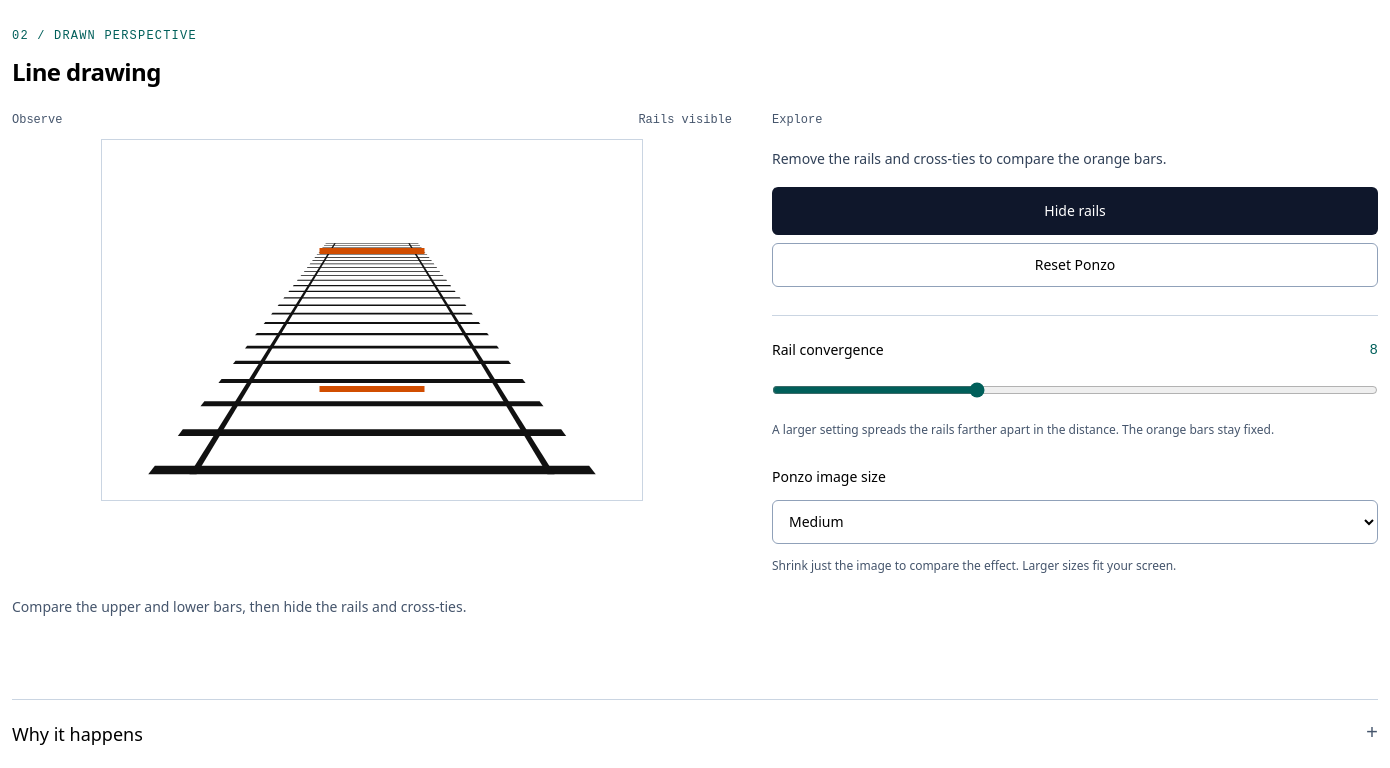
Scenario: Ponzo experience › keeps size and disclosure independent, links sources, and resets all defaults with focus retained
(page scrolled)
Click the button "Why it happens +" at (77,734), box [12,700,1378,767]
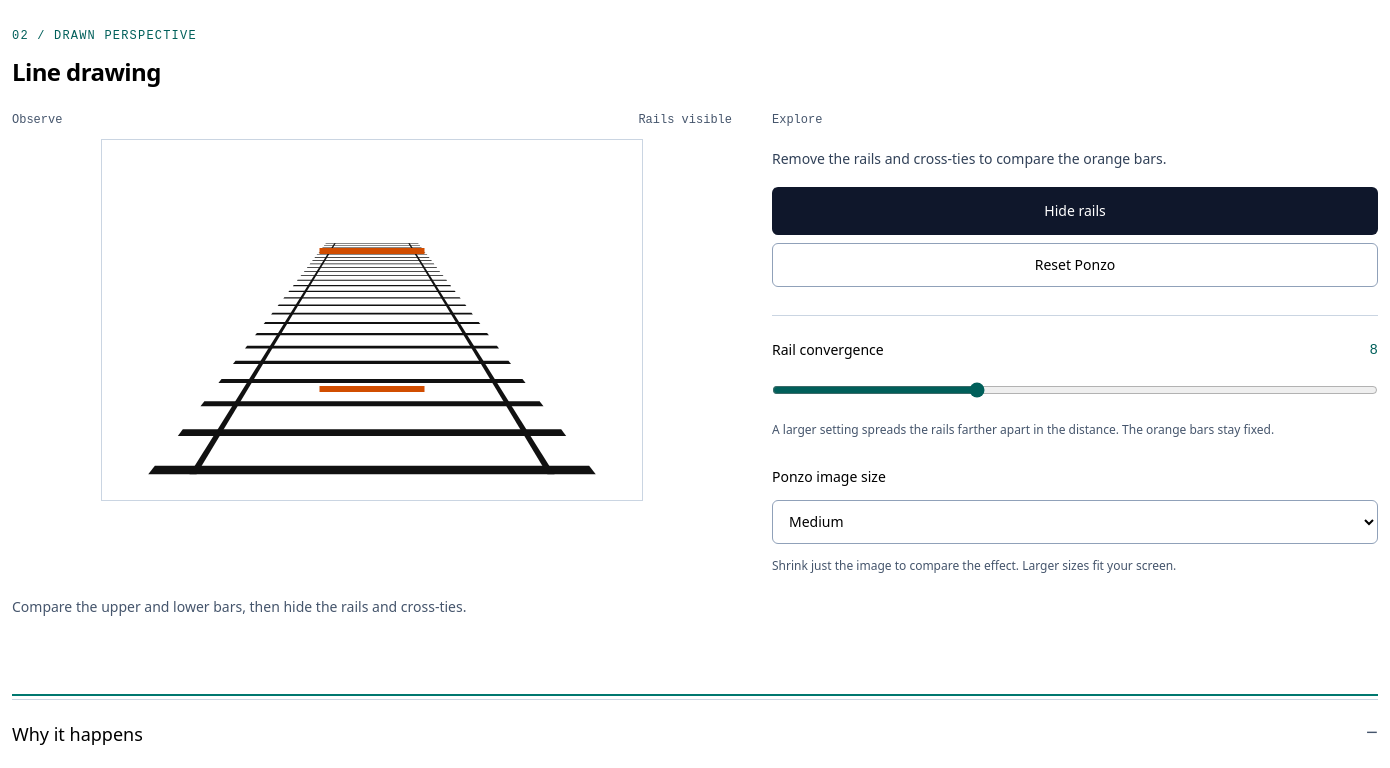
Select "Compact" in the dropdown labelled "Ponzo image size" at (1075,522), box [772,500,1378,544]
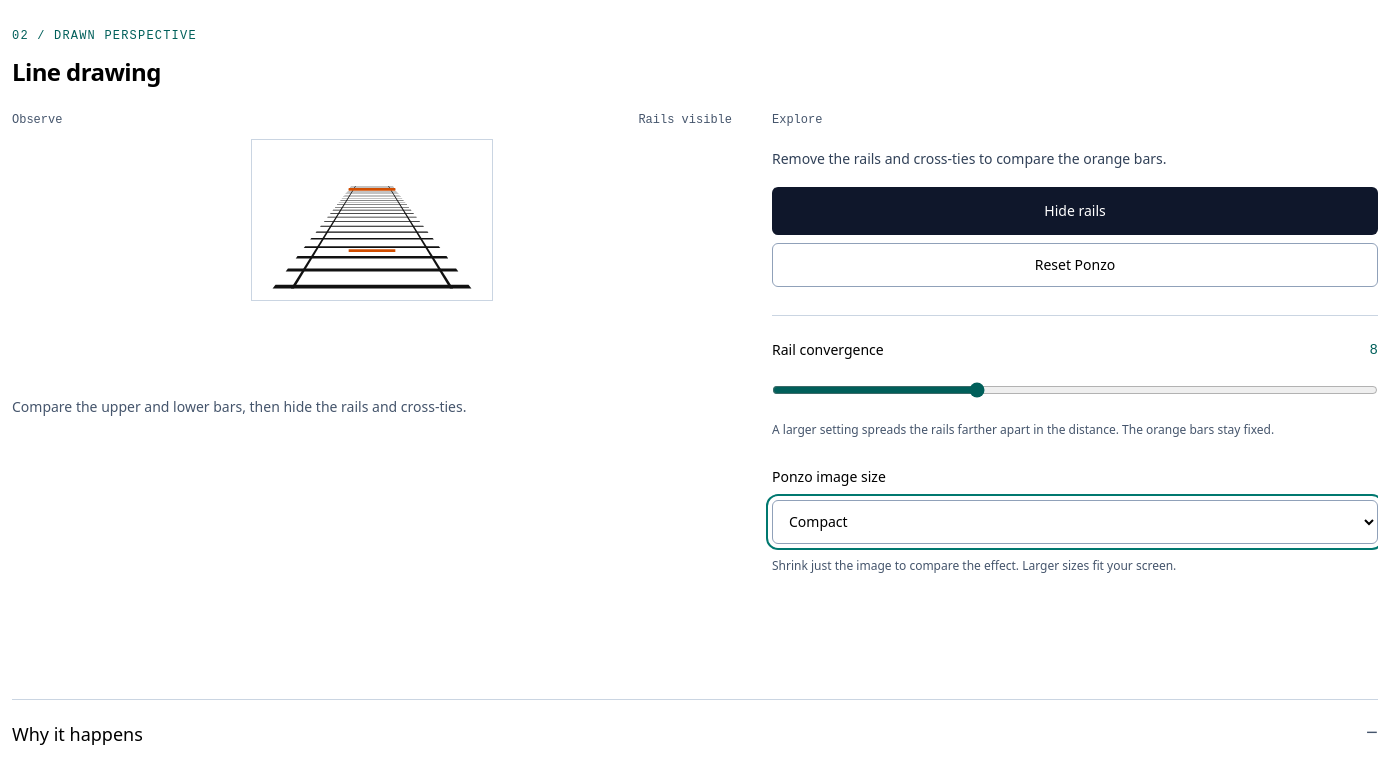
Select "Large" in the dropdown labelled "Ponzo image size" at (1075,522), box [772,500,1378,544]
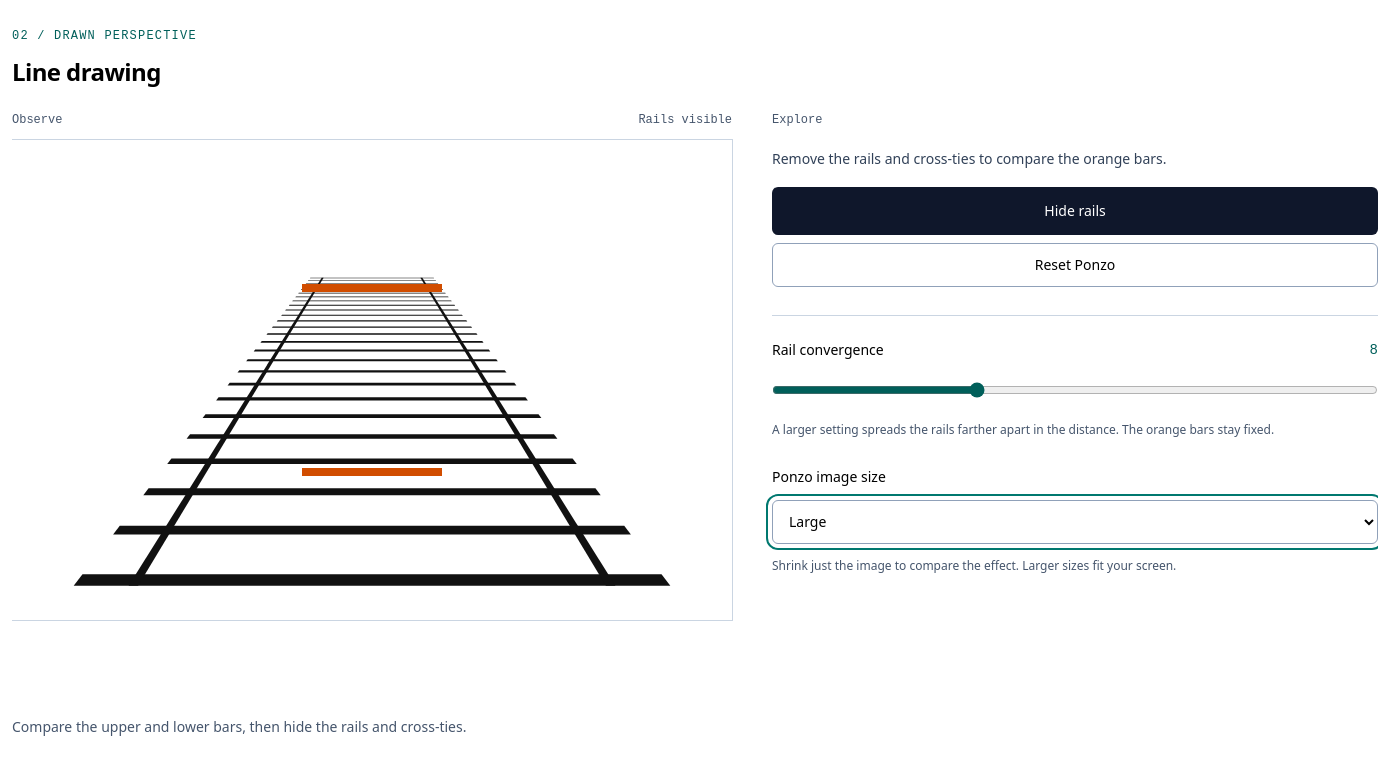
Set the slider to "24" at (1370,390), box [772,368,1378,412]
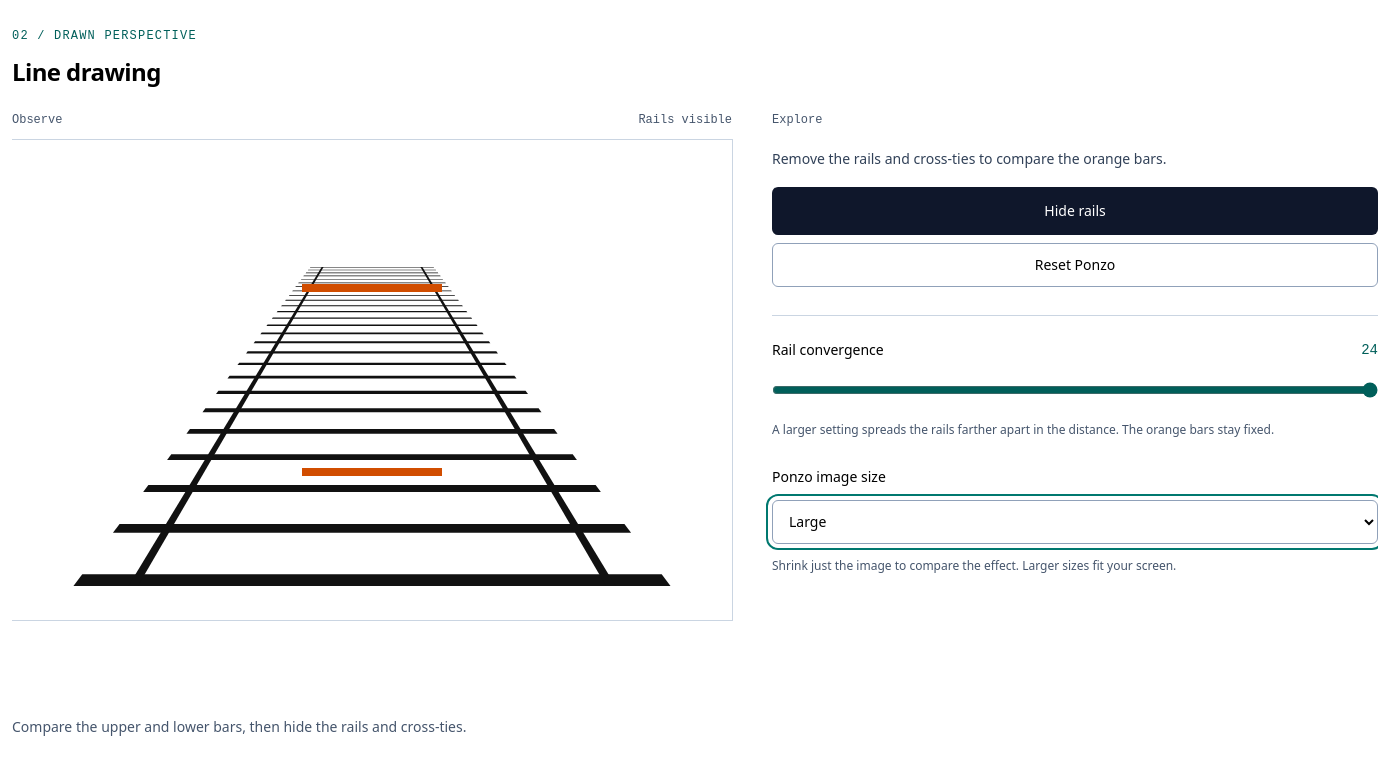
Click the button "Hide rails" at (1075,211), box [772,187,1378,235]
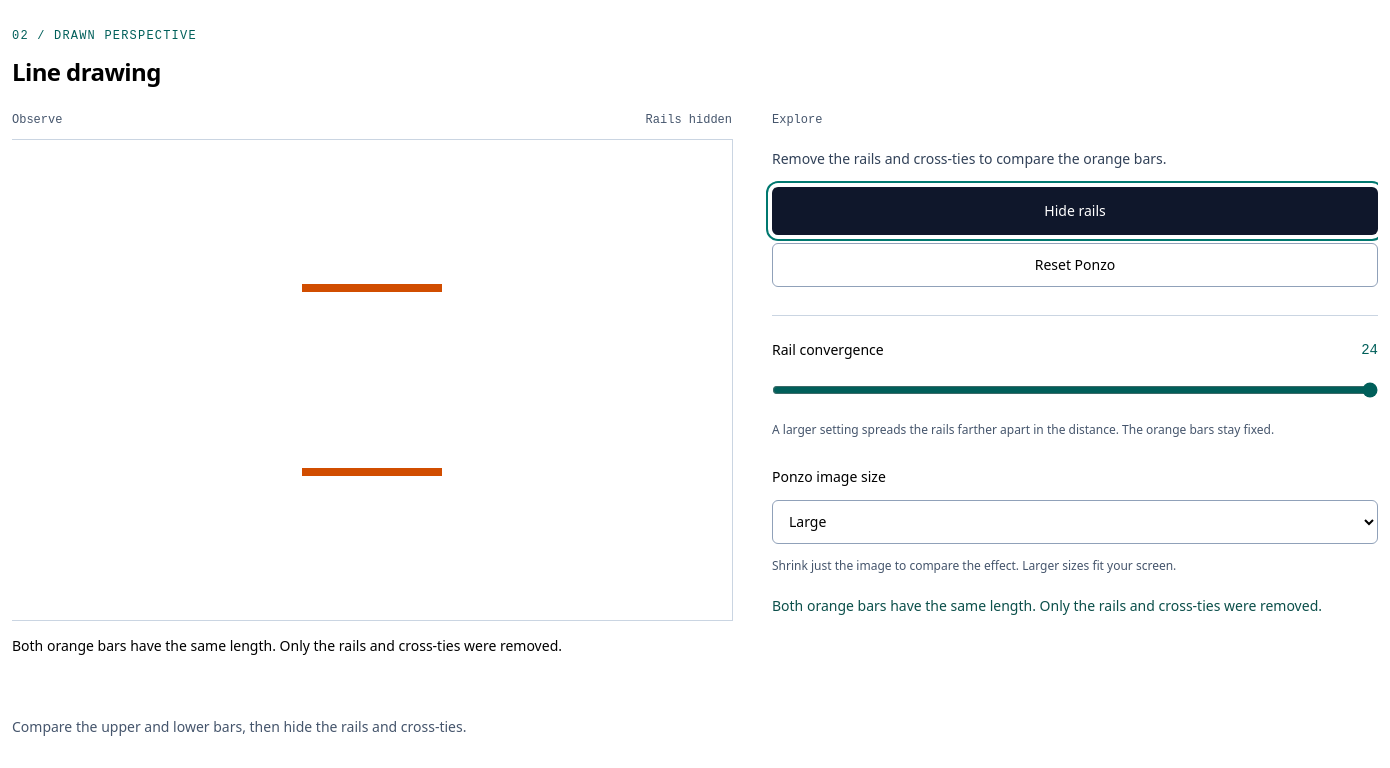
Click the button "Reset Ponzo" at (1075,265), box [772,243,1378,287]
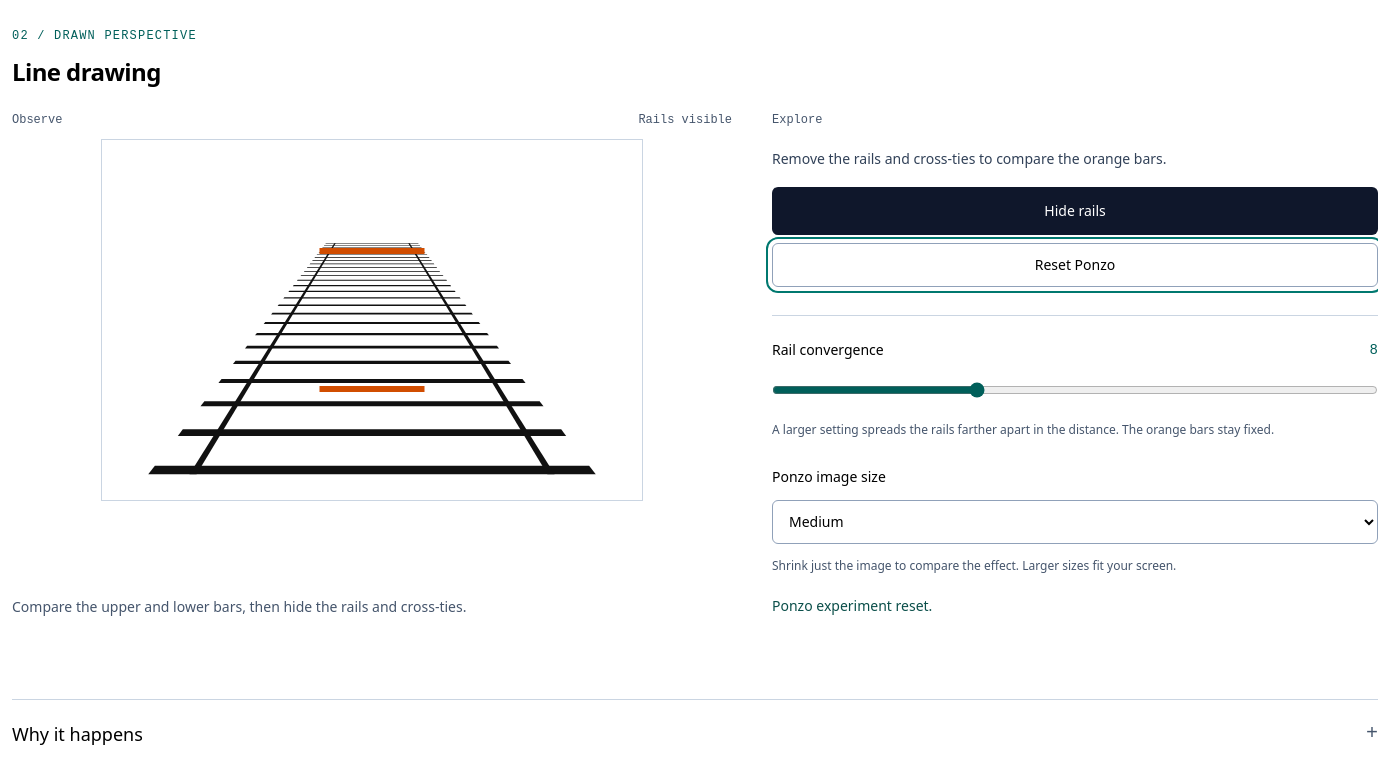
Expected: the slider holds "8", [772,368,1378,412]
Expected: the button "Why it happens +" is collapsed, [12,700,1378,767]
Expected: the text "Ponzo experiment reset." is shown, [772,596,932,615]
